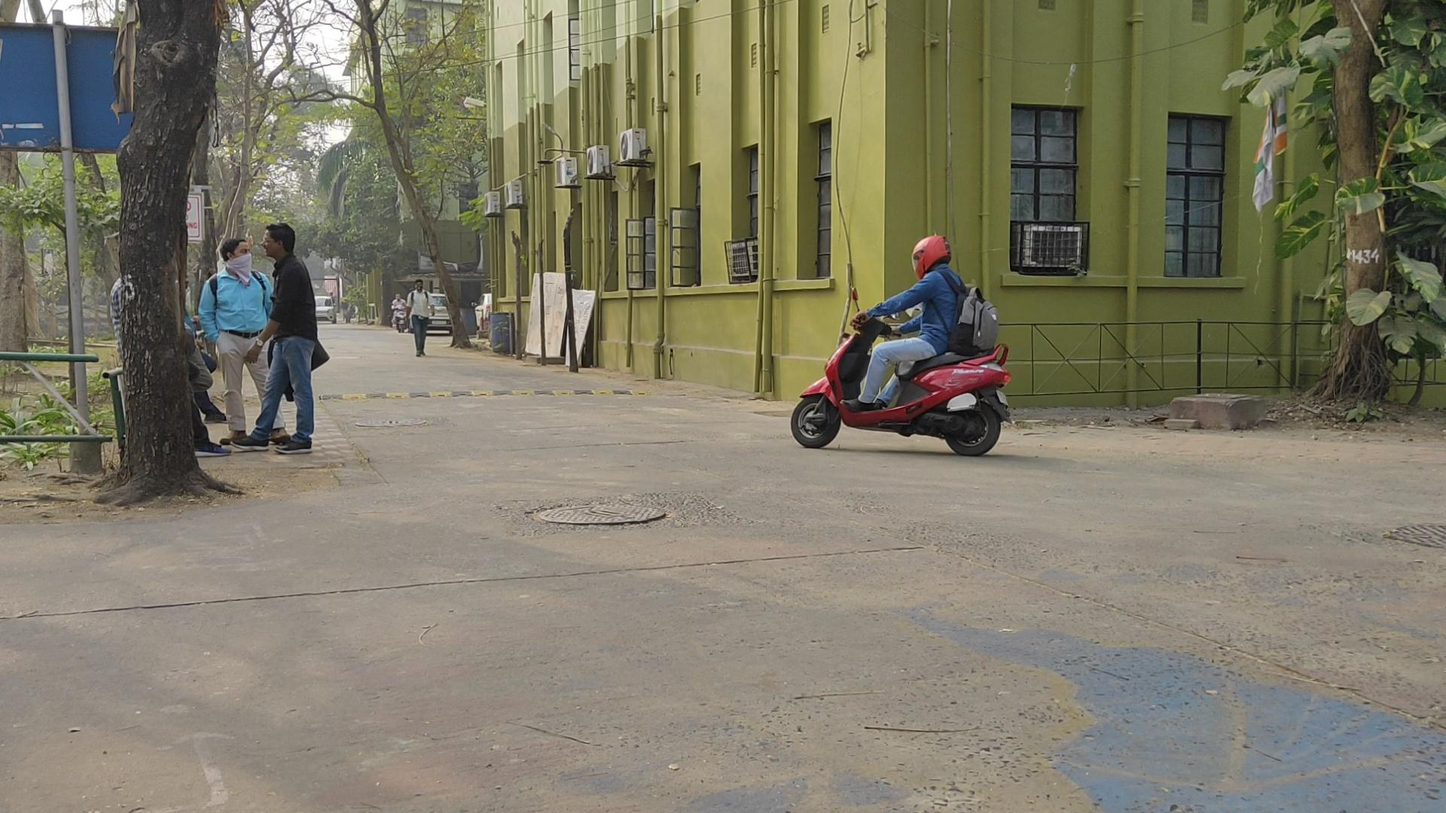bike: (791, 233, 1012, 466), (390, 293, 410, 333)
car: (407, 293, 454, 336)
